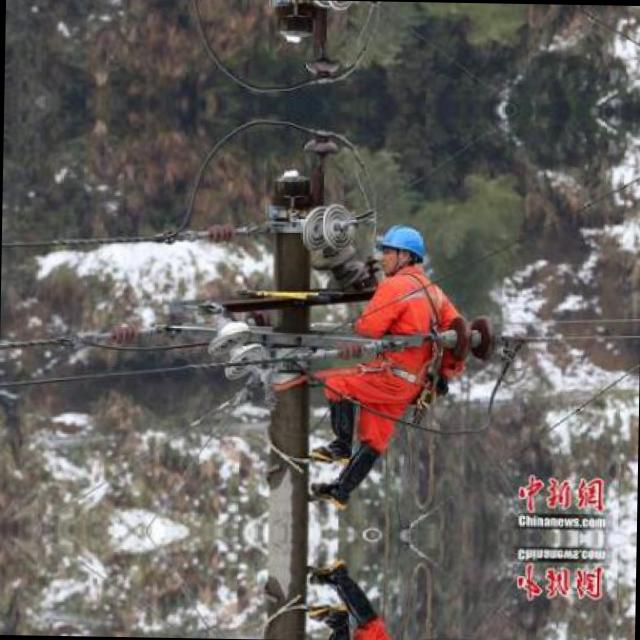helmet: (375, 221, 431, 277)
